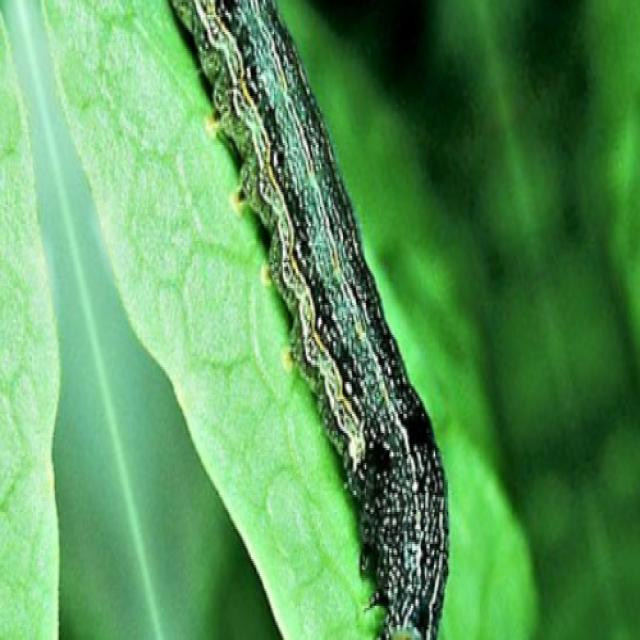Armyworm: (179, 5, 459, 640)
